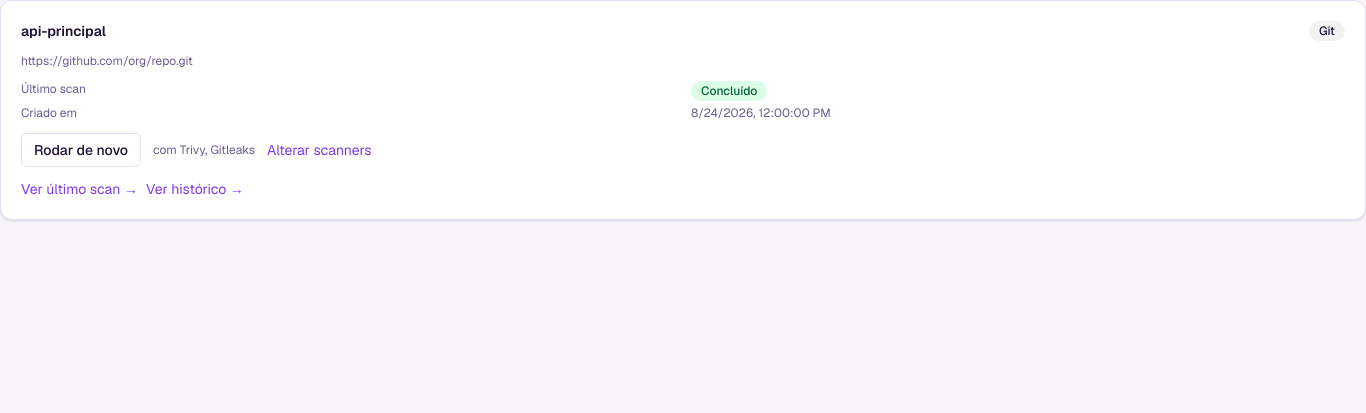
Scenario: ProjectCard › Ver histórico alterna o painel de histórico deduplicado (Fase 12)
The width and height of the screenshot is (1366, 413).
Expected: the text "Nenhum achado no histórico" is not shown
Click the button "Ver histórico →" at (195, 189), box x1=146 y1=179 x2=244 y2=199
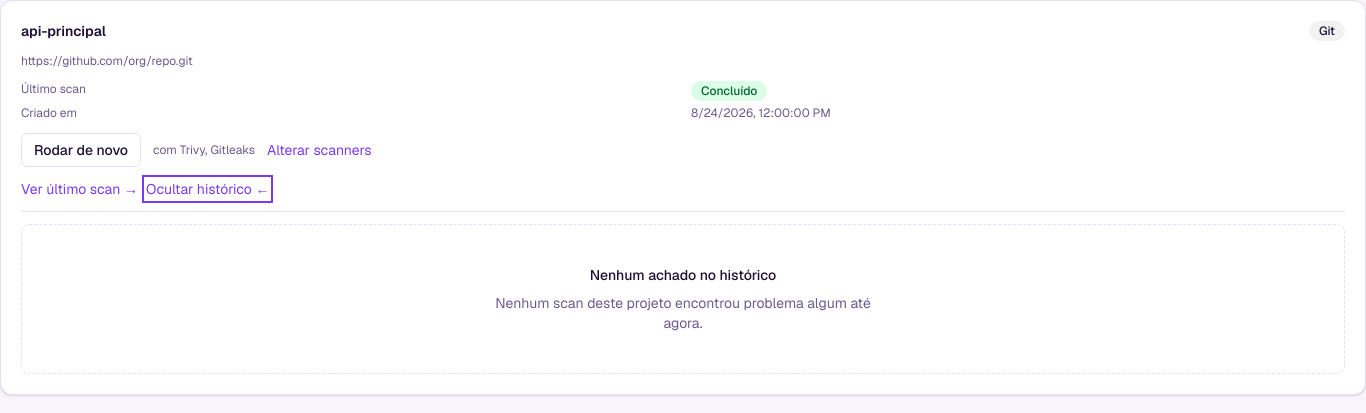
Expected: the text "Nenhum achado no histórico" is shown, x1=590 y1=265 x2=776 y2=285
Click the button "Ocultar histórico ←" at (208, 189), box x1=146 y1=179 x2=269 y2=199
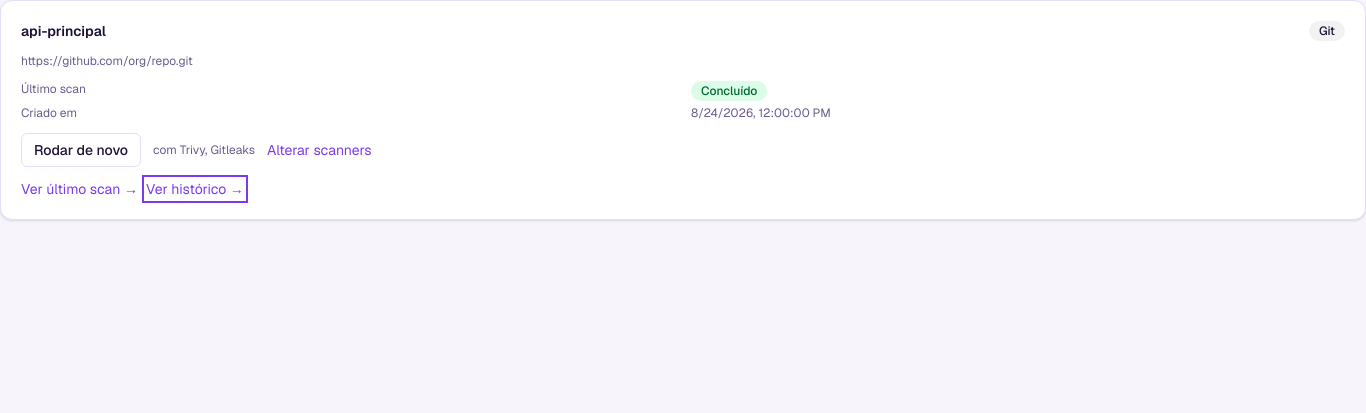
Expected: the text "Nenhum achado no histórico" is gone
